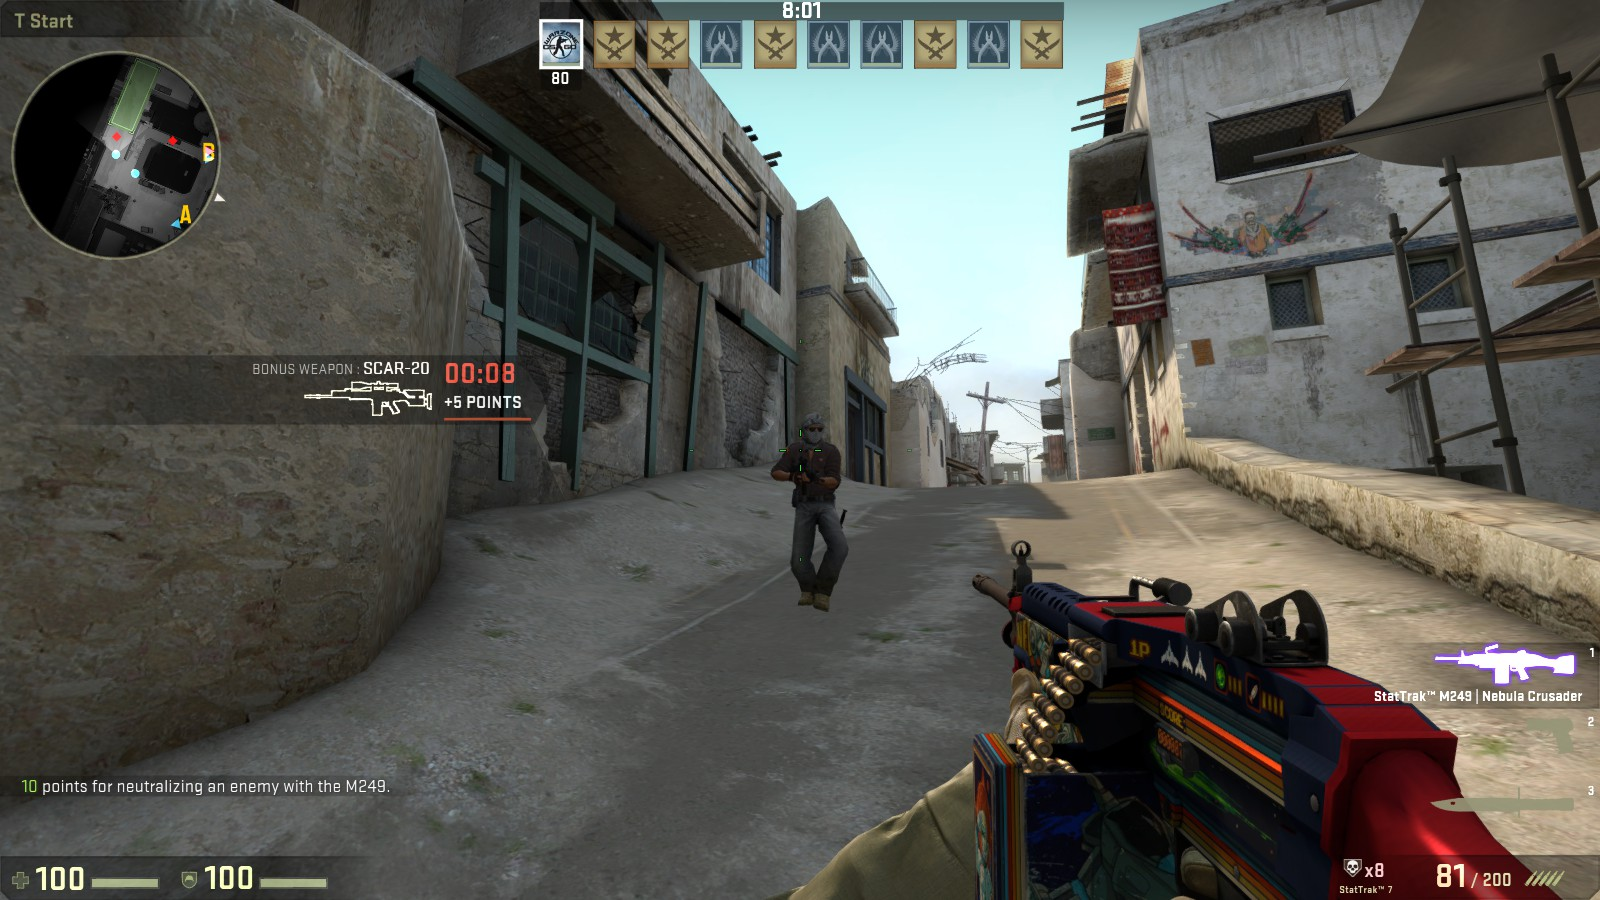t: (779, 405, 846, 614)
th: (798, 408, 827, 449)
